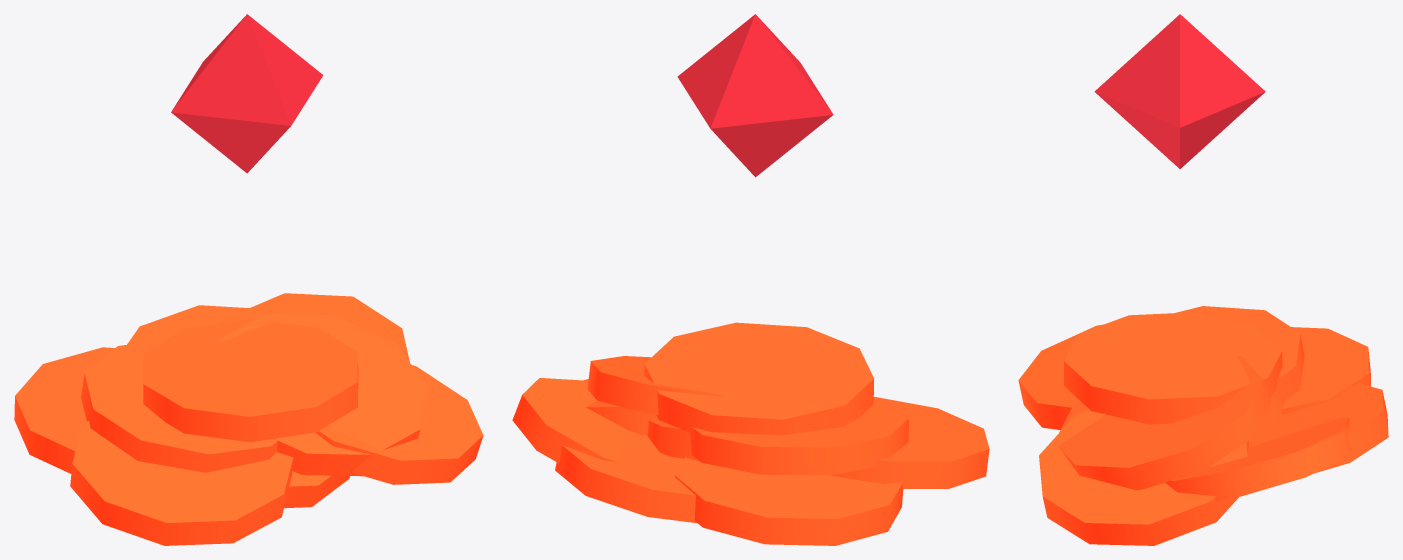
The model's file is temptation-cursed-gold.glb.
The picture shows the model from 3 angles, left to right: view 1: azimuth 30°, elevation 25°; view 2: azimuth 150°, elevation 25°; view 3: azimuth 270°, elevation 25°; orthographic projection. The views are drawn at different scales.
Parts seen in each view (by area): view 1: Temptation (cursed gold), gem; view 2: Temptation (cursed gold), gem; view 3: Temptation (cursed gold), gem.
Part boxes in pixels (box(x1,y1,x2,y2)): Temptation (cursed gold): box(14, 293, 483, 545); gem: box(171, 14, 323, 173); Temptation (cursed gold): box(512, 322, 989, 545); gem: box(677, 14, 833, 177); Temptation (cursed gold): box(1018, 306, 1388, 545); gem: box(1094, 14, 1265, 168).
Bounding box in the file's own units: 1.92 × 2.17 × 1.62.
